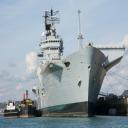Portanaves: (32, 4, 127, 120)
